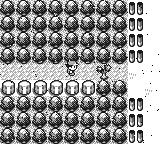main: (66, 60, 79, 76)
mo: (96, 64, 112, 81)
no-caminable: (0, 80, 129, 143), (0, 1, 127, 64), (0, 80, 96, 96), (129, 1, 144, 64), (129, 97, 144, 144)
